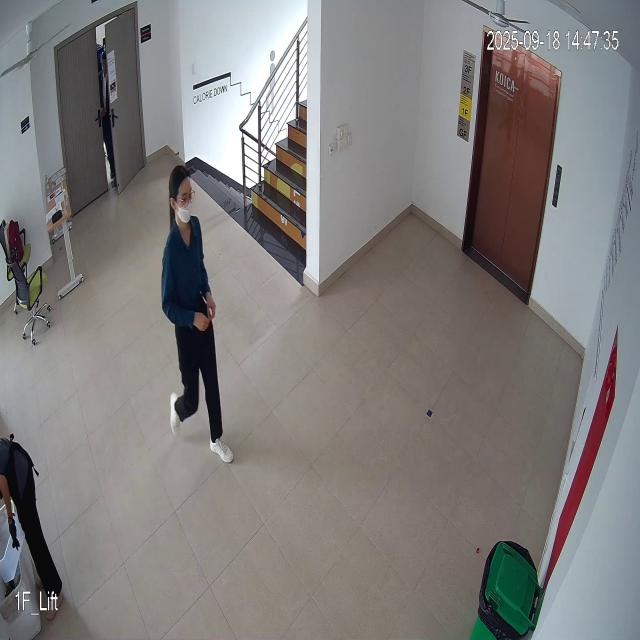face: (168, 162, 199, 225)
